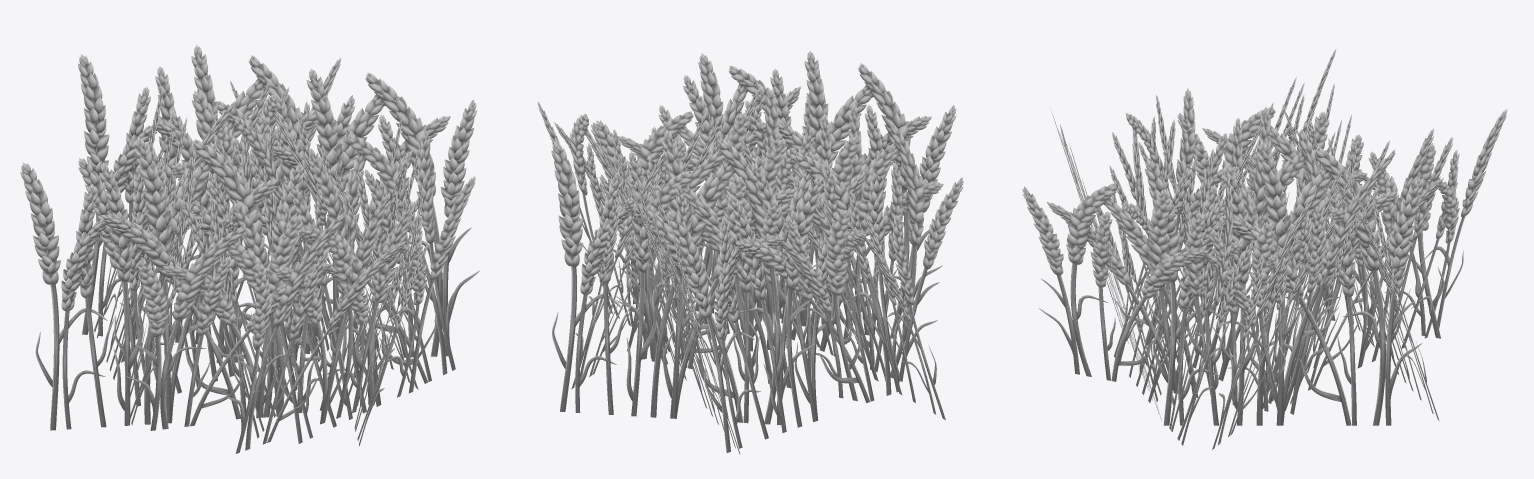
The model's file is WheatPlant03.fbx.
The picture shows the model from 3 angles, left to right: view 1: azimuth 30°, elevation 25°; view 2: azimuth 150°, elevation 25°; view 3: azimuth 270°, elevation 25°; orthographic projection. The views are drawn at different scales.
Parts seen in each view (by area): view 1: WheatPlant03_LOD0; view 2: WheatPlant03_LOD0; view 3: WheatPlant03_LOD0.
Boxes of the visible parts, x1,y1,x2,y2 form: WheatPlant03_LOD0: (20, 44, 479, 453); WheatPlant03_LOD0: (537, 50, 963, 454); WheatPlant03_LOD0: (1022, 48, 1507, 449).
Size of what is drawn, in the model's own units: 1.41 by 0.8382 by 1.4.
